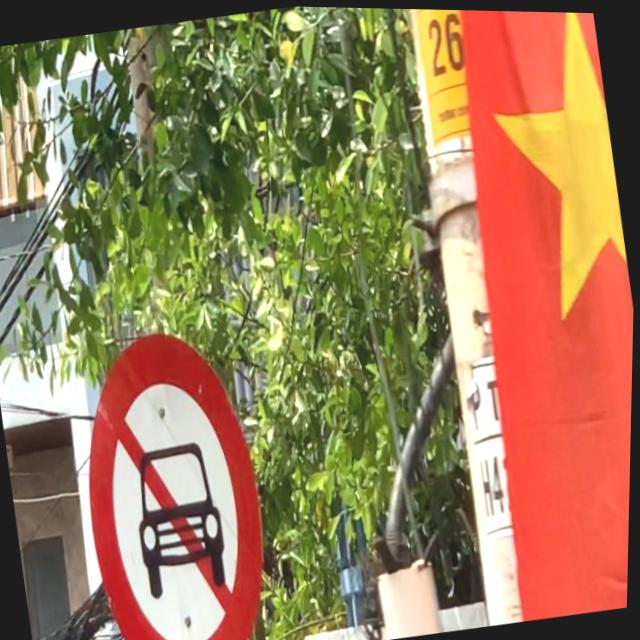Cam xe oto: (61, 317, 283, 640)
